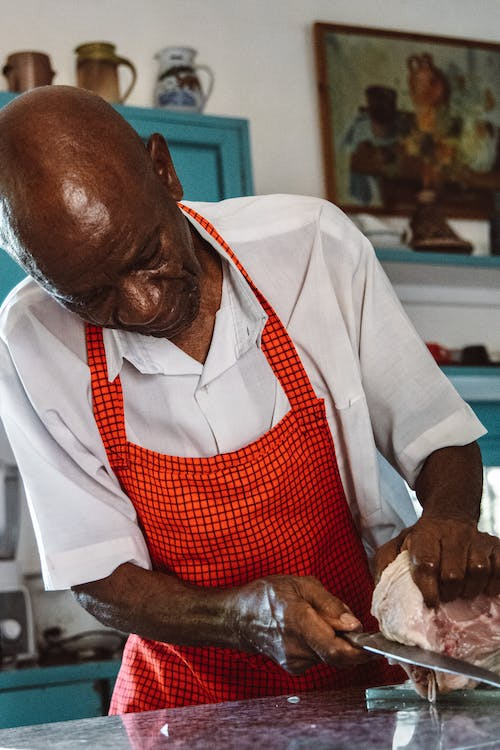knife: (340, 627, 500, 693)
